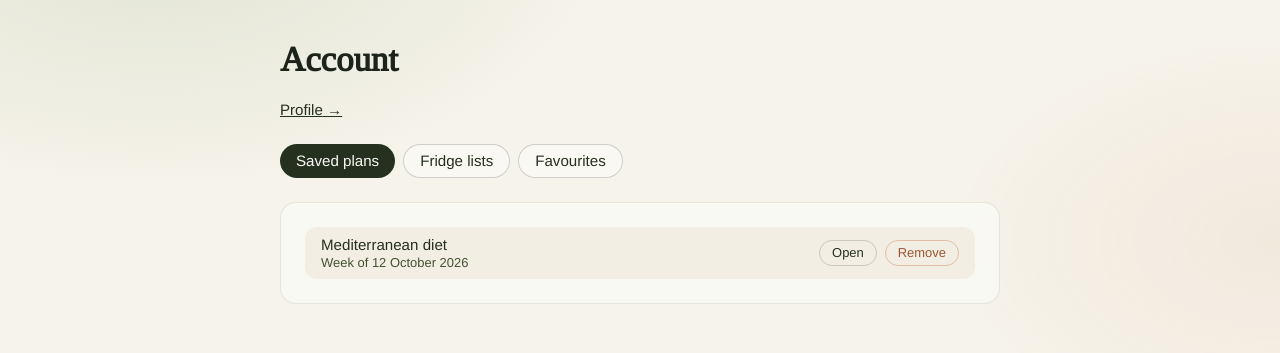
Test case: <AccountPage> › shows the remove-failed copy when a remove is refused and keeps the item
Click the button "Remove".
click(922, 253)  # box x1=885 y1=240 x2=959 y2=266
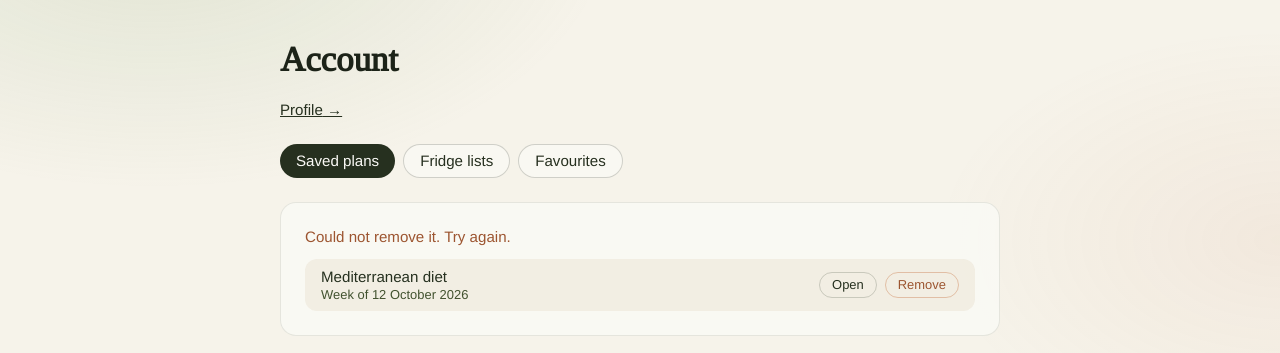
Expected: the text "Mediterranean diet" is shown, x1=321 y1=267 x2=468 y2=287
Expected: the message reads "Could not remove it. Try again.", x1=305 y1=228 x2=511 y2=245
